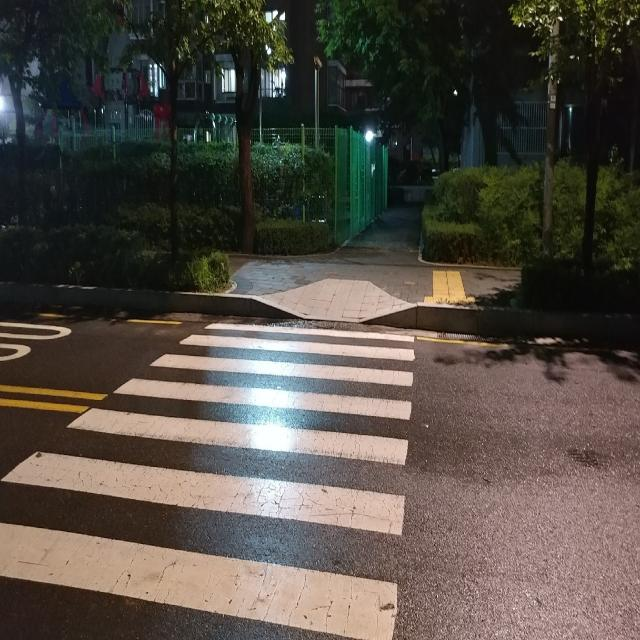횡단보도: (0, 323, 415, 640)
